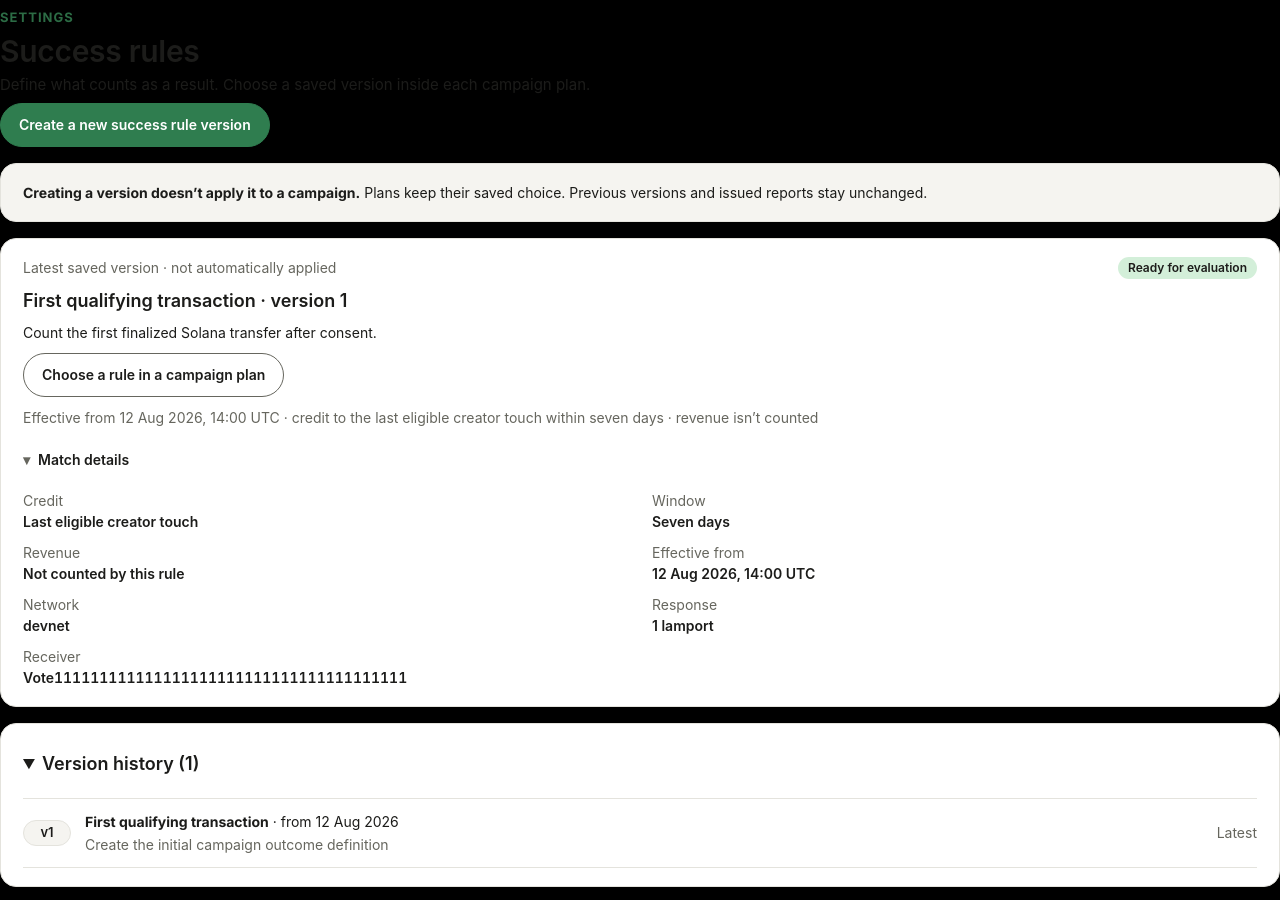
conversion rule settings › shows saving immediately and blocks duplicate submissions and template changes
Click the button "Create a new success rule version" at (135, 124), box [0,102,270,146]
(page scrolled)
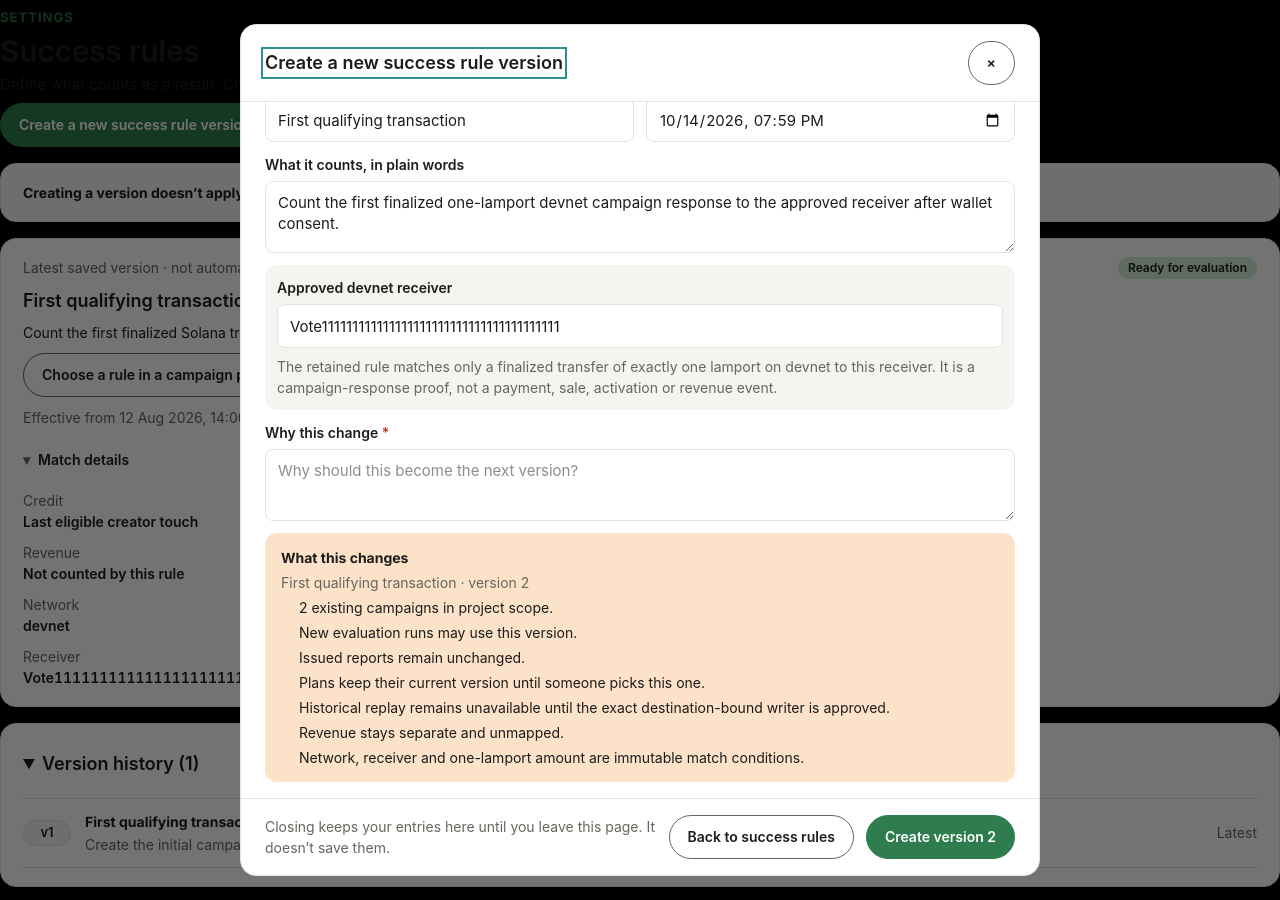
Type "Test the pending save state" into the text box labelled "Why this change" at (640, 485), box [265,449,1015,521]
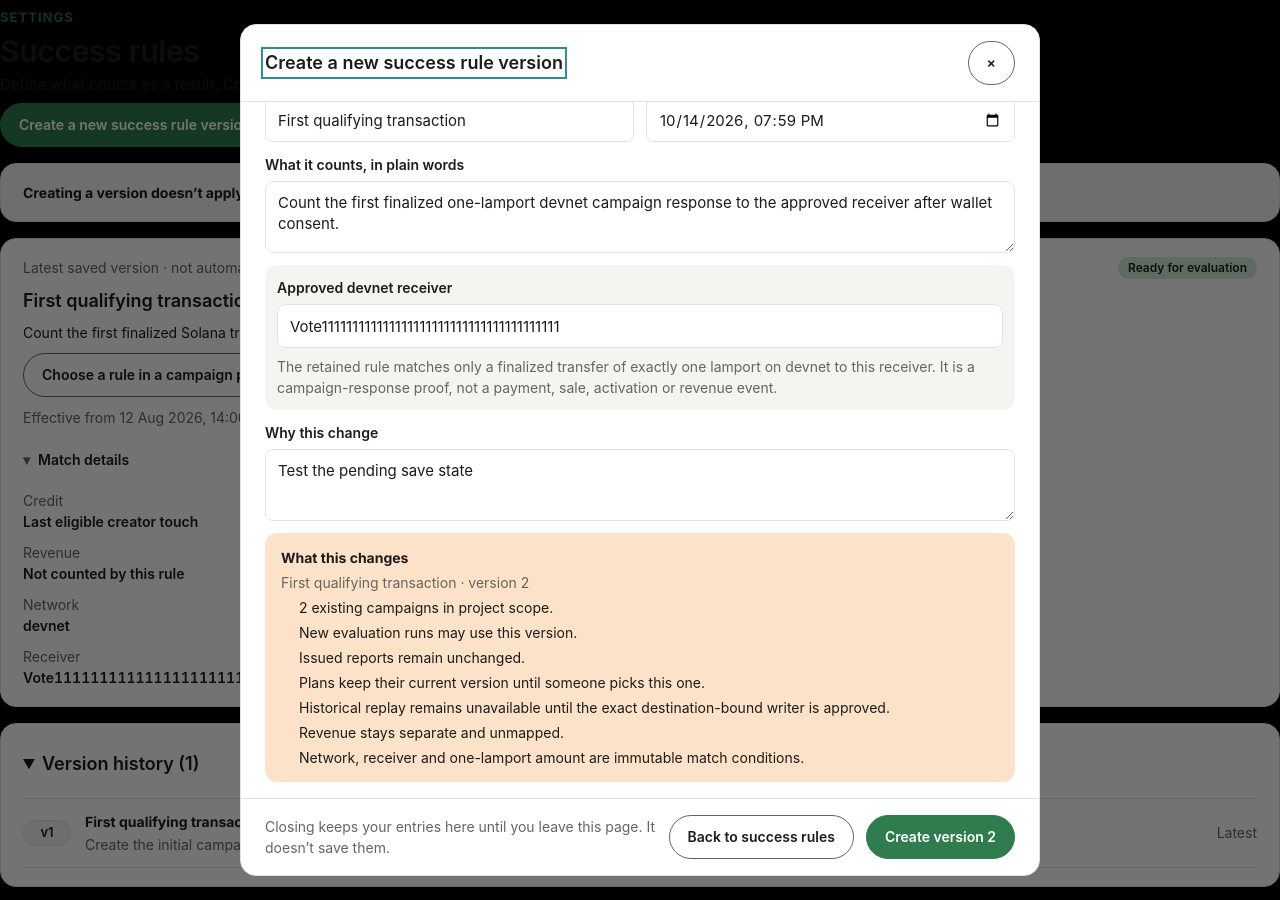
Submit the form labelled "name", box [265,17,1015,782]
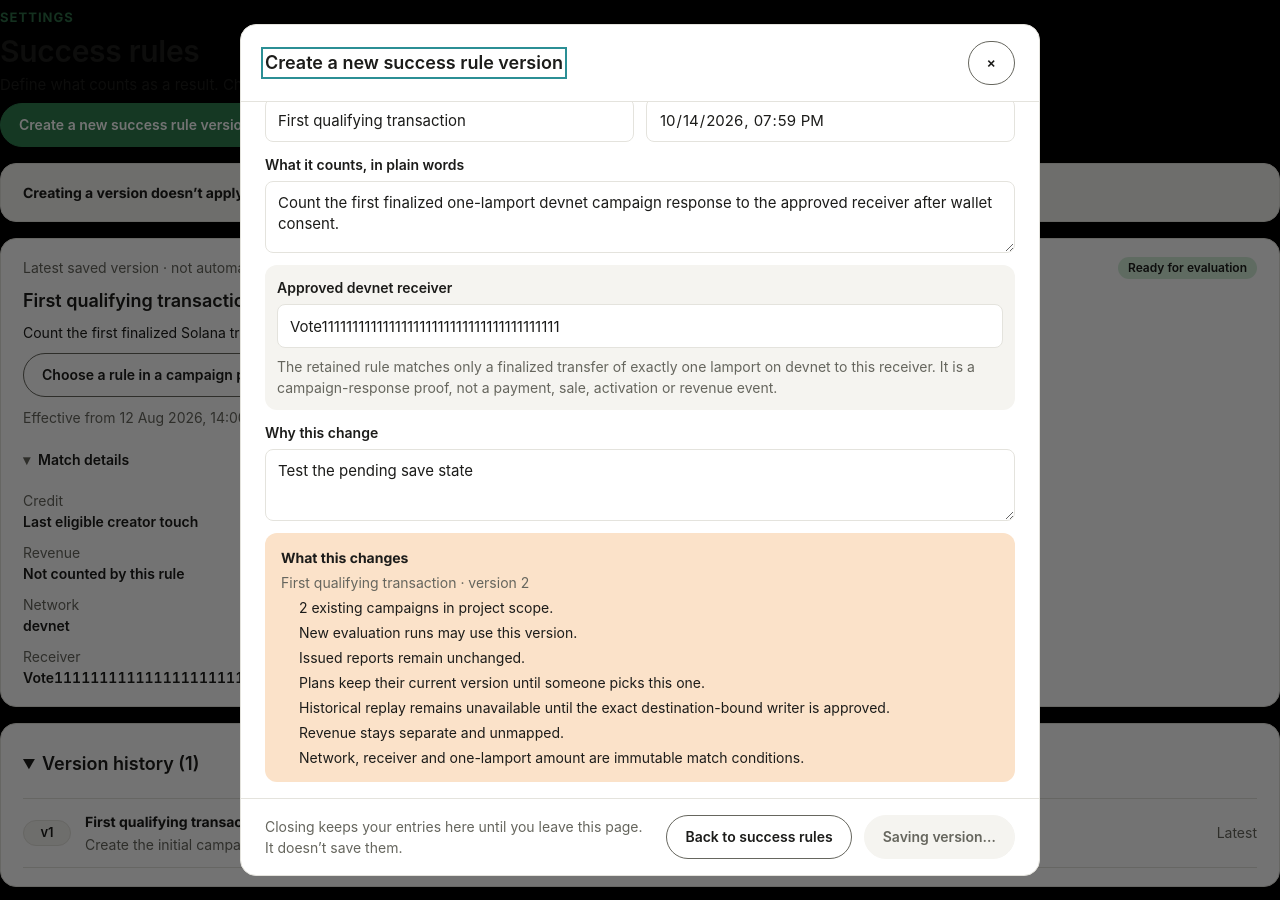
Now the button "Saving version…" is disabled, box [864,815,1015,859]
Submit the form labelled "name", box [265,17,1015,782]
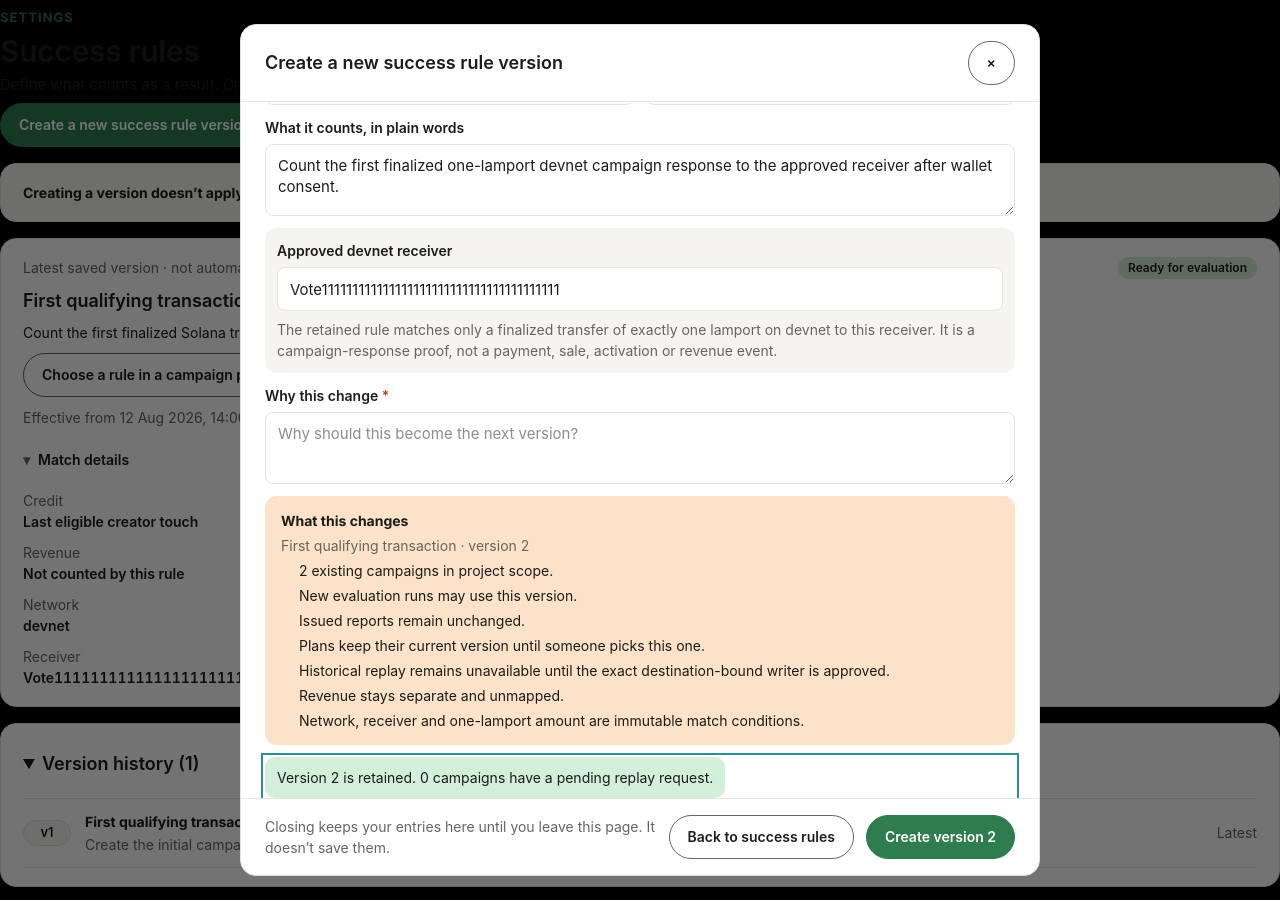
Now the text "Version 2 is retained. 0 campaigns have a pending replay request." is shown, box [265,757,725,798]
